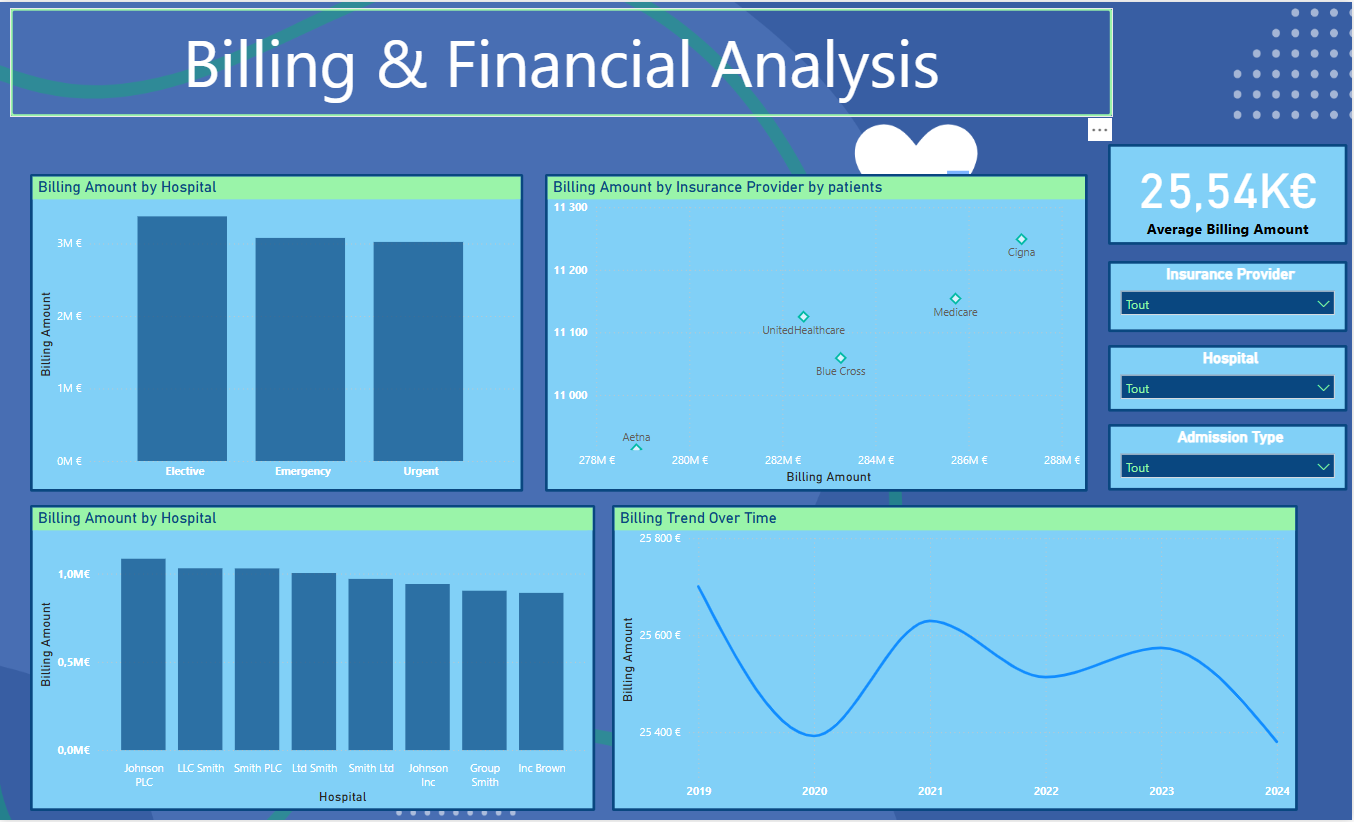

This screenshot's page, from the dashboard's own definition file:
{"tool":"powerbi","page":{"name":"Billing","canvas":[1503,909],"ordinal":4},"visuals":[{"type":"textbox","box":[11.4,6.9,1225.5,121.1],"z":0},{"type":"slicer","title":"Insurance Provider","fields":{"Values":["healthcare_dataset.Insurance_Provider"]},"box":[1231.2,287.8,266.1,78.8],"z":2000},{"type":"slicer","title":"Hospital","fields":{"Values":["healthcare_dataset.Hospital"]},"box":[1231.2,380.9,266.1,74.2],"z":3000},{"type":"scatterChart","title":"Billing Amount by Insurance Provider by patients","fields":{"Category":["healthcare_dataset.Insurance_Provider"],"X":["healthcare_dataset.Billing_Amount"],"Y":["healthcare_dataset.Name"]},"box":[605.3,190.7,603,352.9],"z":5000},{"type":"card","fields":{"Values":["healthcare_dataset.Billing_Amount"]},"box":[1231.2,157.6,266.1,111.9],"z":6000},{"type":"columnChart","title":"Billing Amount by Hospital","fields":{"Category":["healthcare_dataset.Hospital"],"Y":["healthcare_dataset.Billing_Amount"]},"box":[33.1,558.5,628.2,340.3],"z":7000},{"type":"lineChart","title":"Billing Trend Over Time","fields":{"Y":["healthcare_dataset.Billing_Amount"],"Category":["healthcare_dataset.Date_of_Admission.Variation.Hiérarchie de dates.Année","healthcare_dataset.Date_of_Admission.Variation.Hiérarchie de dates.Mois","healthcare_dataset.Date_of_Admission.Variation.Hiérarchie de dates.Jour"]},"box":[679.5,558.5,761.8,340.3],"z":8000},{"type":"slicer","title":"Admission Type","fields":{"Values":["healthcare_dataset.Admission_Type"]},"box":[1231.2,469.4,266.1,74.2],"z":9000},{"type":"columnChart","title":"Billing Amount by Hospital","fields":{"Y":["healthcare_dataset.Billing_Amount"],"Category":["healthcare_dataset.Admission_Type"]},"box":[33.1,190.7,548.2,352.9],"z":10000}]}

Visuals, with their boxes in screenshot pixels (x1, y1, x2, y2), scaled from the page's 1503x909 canvas onto the 1354x822 screenshot:
textbox: x1=10 y1=6 x2=1114 y2=116
"Insurance Provider" slicer: x1=1109 y1=260 x2=1349 y2=332
"Hospital" slicer: x1=1109 y1=344 x2=1349 y2=412
"Billing Amount by Insurance Provider by patients" scatterChart: x1=545 y1=172 x2=1089 y2=492
card - healthcare_dataset.Billing_Amount: x1=1109 y1=143 x2=1349 y2=244
"Billing Amount by Hospital" columnChart: x1=30 y1=505 x2=596 y2=813
"Billing Trend Over Time" lineChart: x1=612 y1=505 x2=1298 y2=813
"Admission Type" slicer: x1=1109 y1=424 x2=1349 y2=492
"Billing Amount by Hospital" columnChart: x1=30 y1=172 x2=524 y2=492
